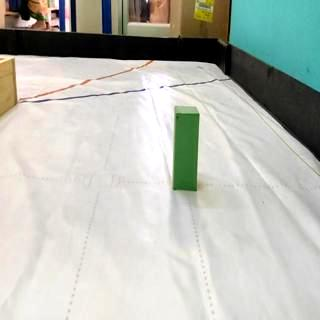greenbox: (174, 104, 201, 190)
